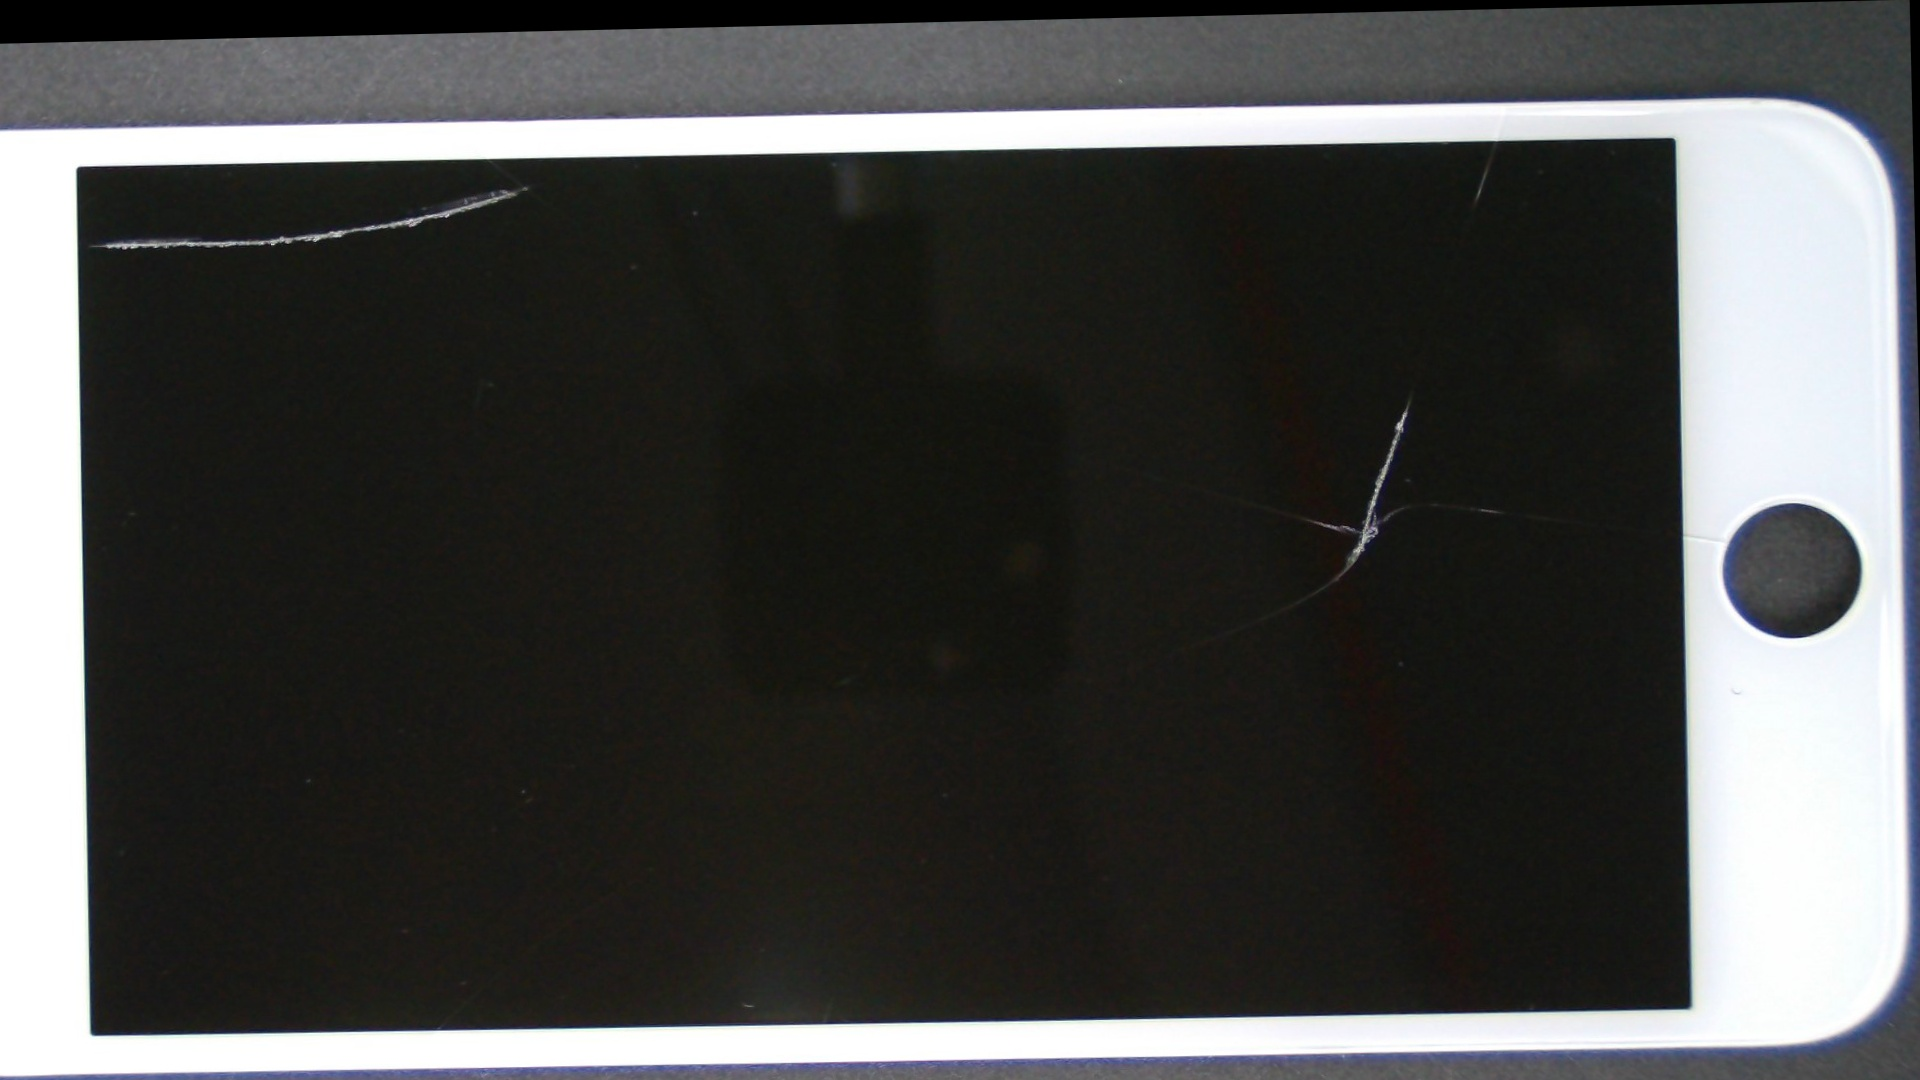oil: (608, 190, 1920, 603), (649, 67, 1915, 235), (166, 100, 882, 273)
